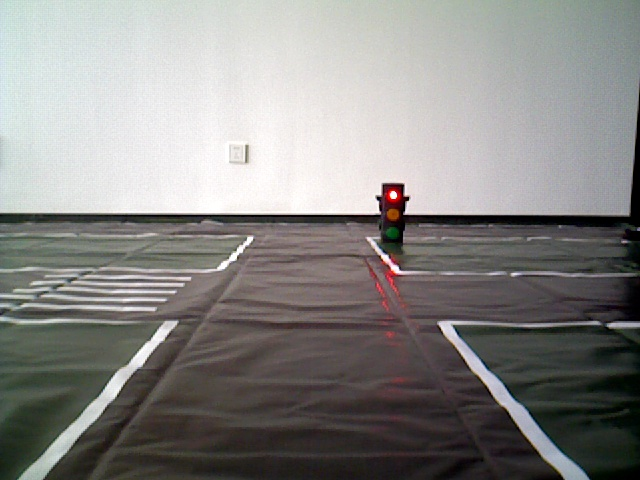red: (381, 187, 404, 248)
